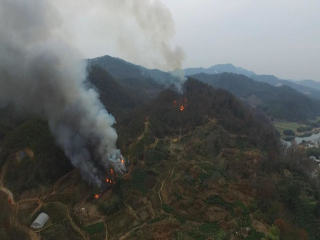smoke: (1, 6, 191, 190)
